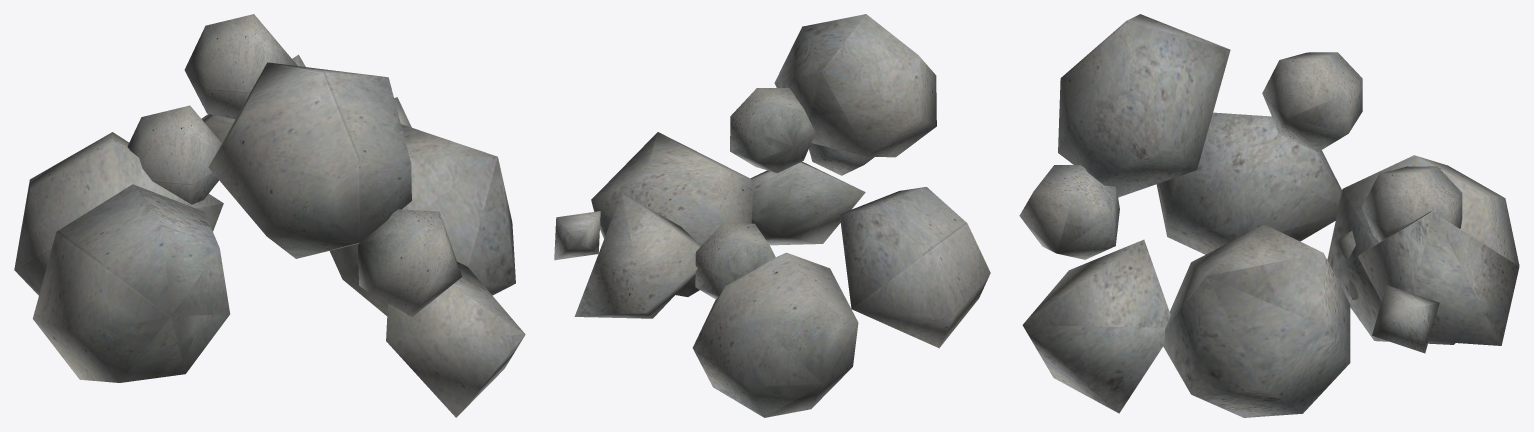
File: stone_effect3.obj
The picture shows the model from 3 angles, left to right: view 1: azimuth 30°, elevation 25°; view 2: azimuth 150°, elevation 25°; view 3: azimuth 270°, elevation 25°; orthographic projection. The views are drawn at different scales.
Parts seen in each view (by area): view 1: Sphere011; view 2: Sphere011; view 3: Sphere011.
Part boxes in pixels (<box>): Sphere011: <box>14,14,525,417</box>; Sphere011: <box>554,14,990,417</box>; Sphere011: <box>1019,14,1519,417</box>.
Bounding box in the file's own units: 124 × 91.77 × 125.
Materials: 1 (1 with a texture image).
